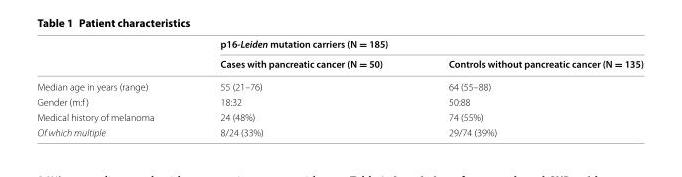table: (36, 37, 642, 137)
table column: (186, 37, 415, 137), (415, 37, 642, 137), (36, 37, 186, 137)
table column header: (36, 37, 642, 78)
table row: (36, 56, 642, 78), (36, 37, 642, 56), (36, 93, 642, 109), (36, 78, 642, 93), (36, 109, 642, 124), (36, 124, 642, 137)
table spanning cell: (186, 37, 642, 56)
